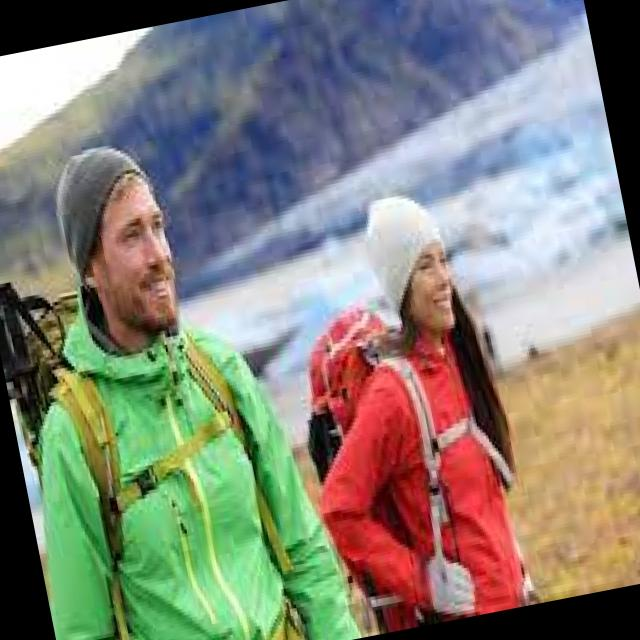Jacket: (0, 291, 359, 640), (284, 297, 554, 640)
